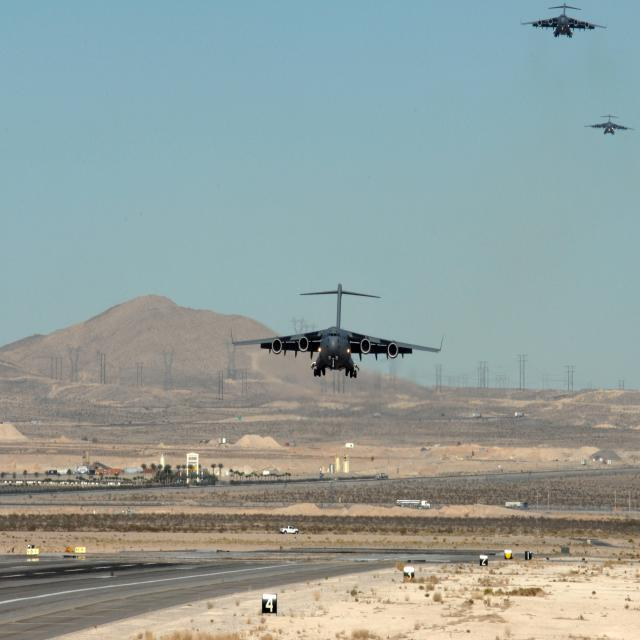MIL_Plane: (230, 280, 444, 374), (520, 3, 607, 38), (603, 114, 615, 135)
